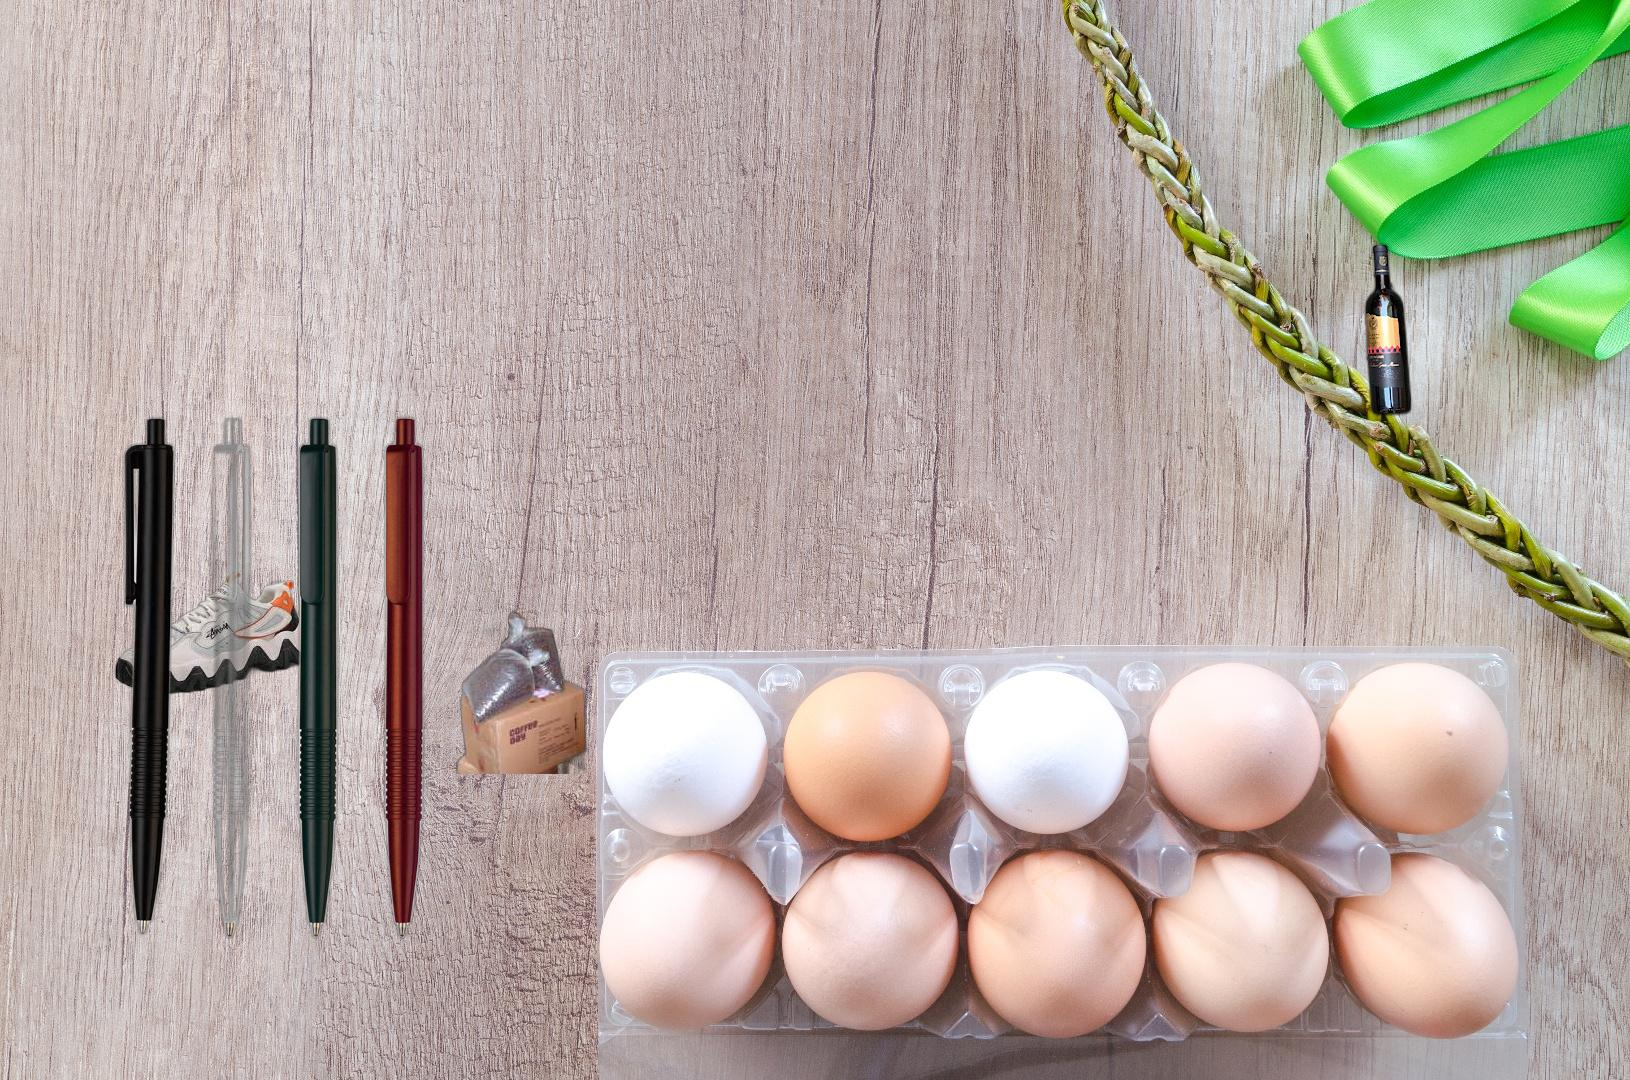glass: (1361, 237, 1416, 421)
penholder: (120, 412, 428, 944)
shoes: (112, 570, 324, 697)
trashbox-cardboard: (373, 758, 610, 1080), (401, 526, 632, 774)
